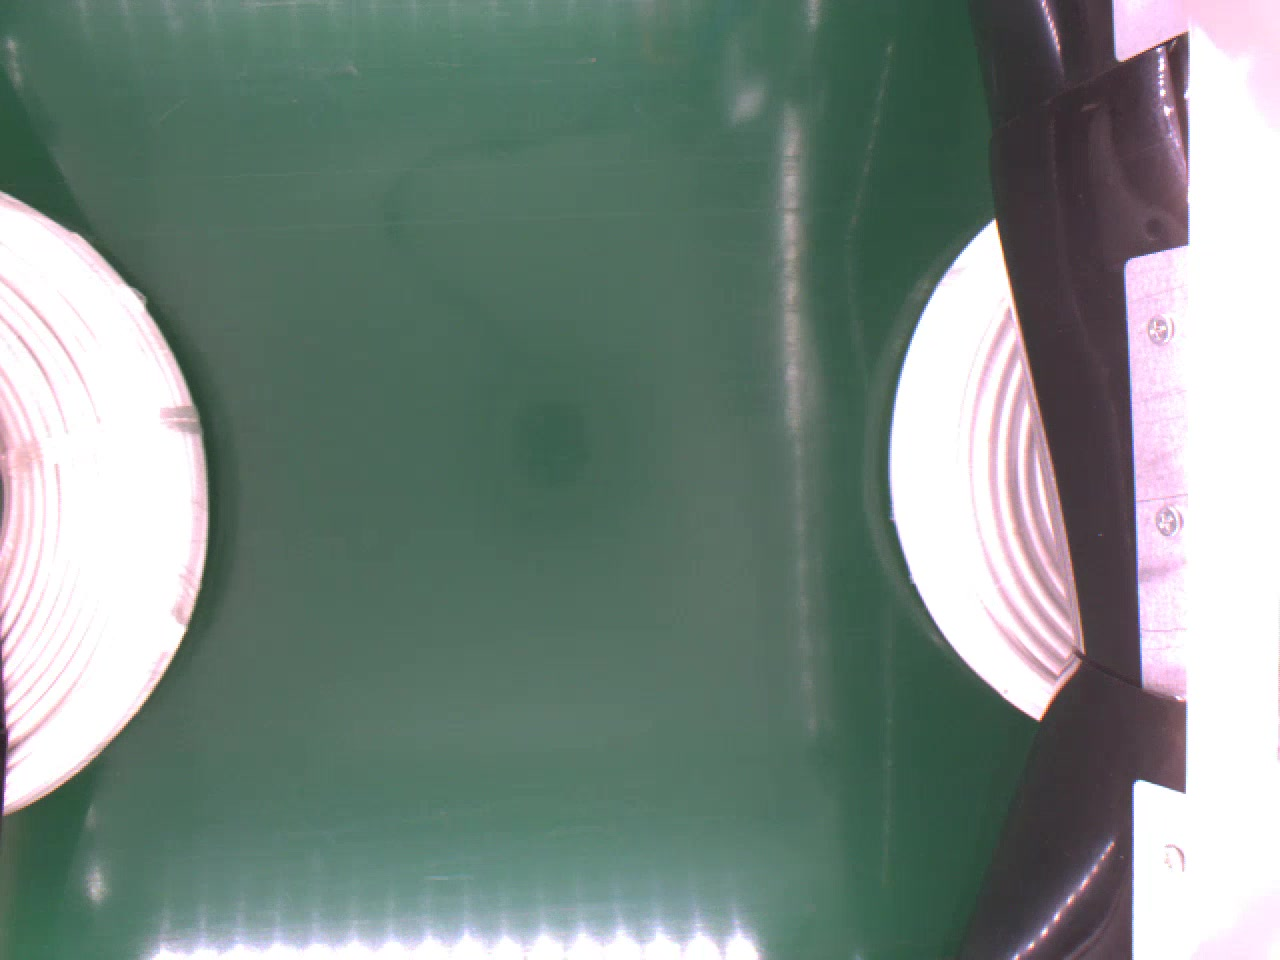white: (0, 190, 218, 815), (883, 214, 1092, 725)
